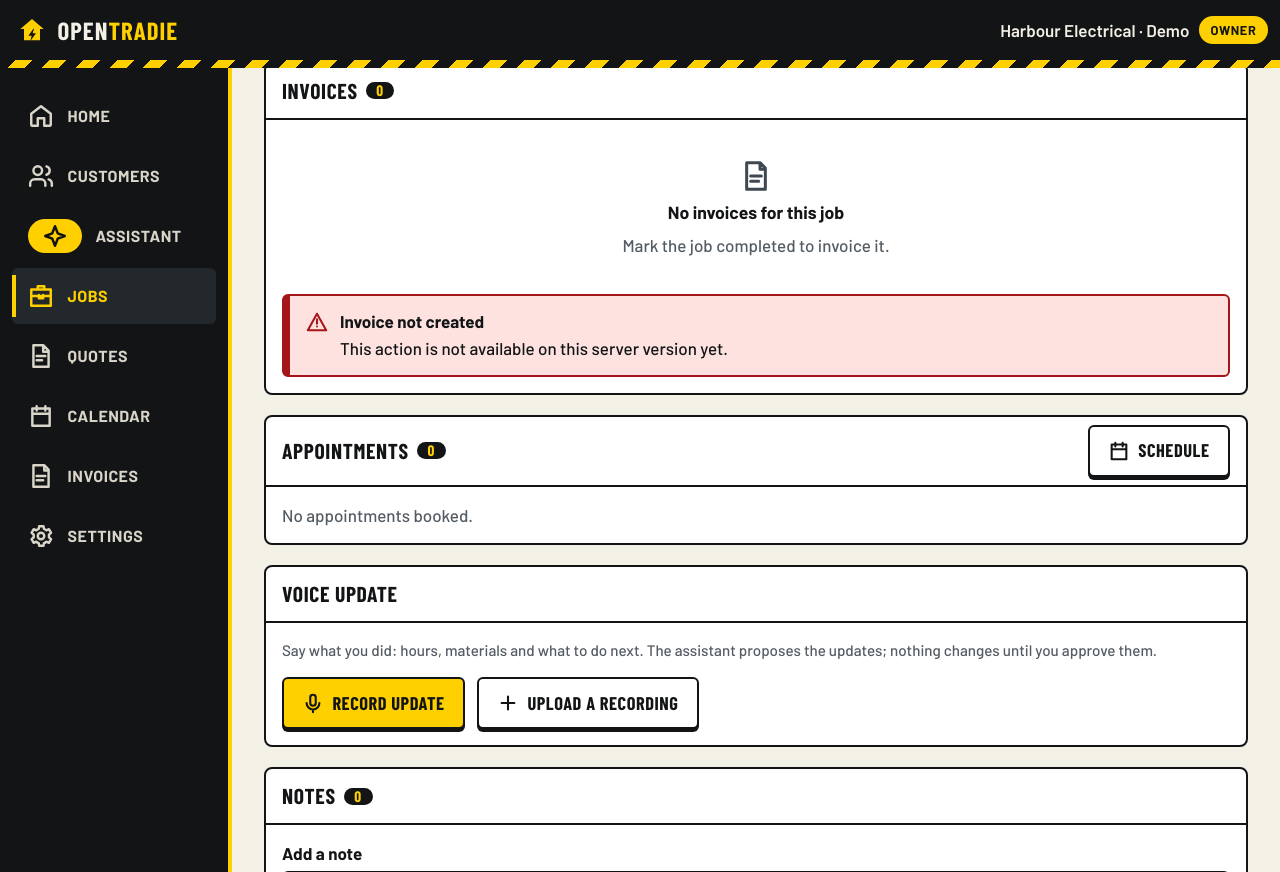
Test: scheduling from the job card › explains a clash and refreshes the suggestions
The width and height of the screenshot is (1280, 872).
(page scrolled)
Click the button "Schedule" at (1159, 450), box [1088,424,1230,476]
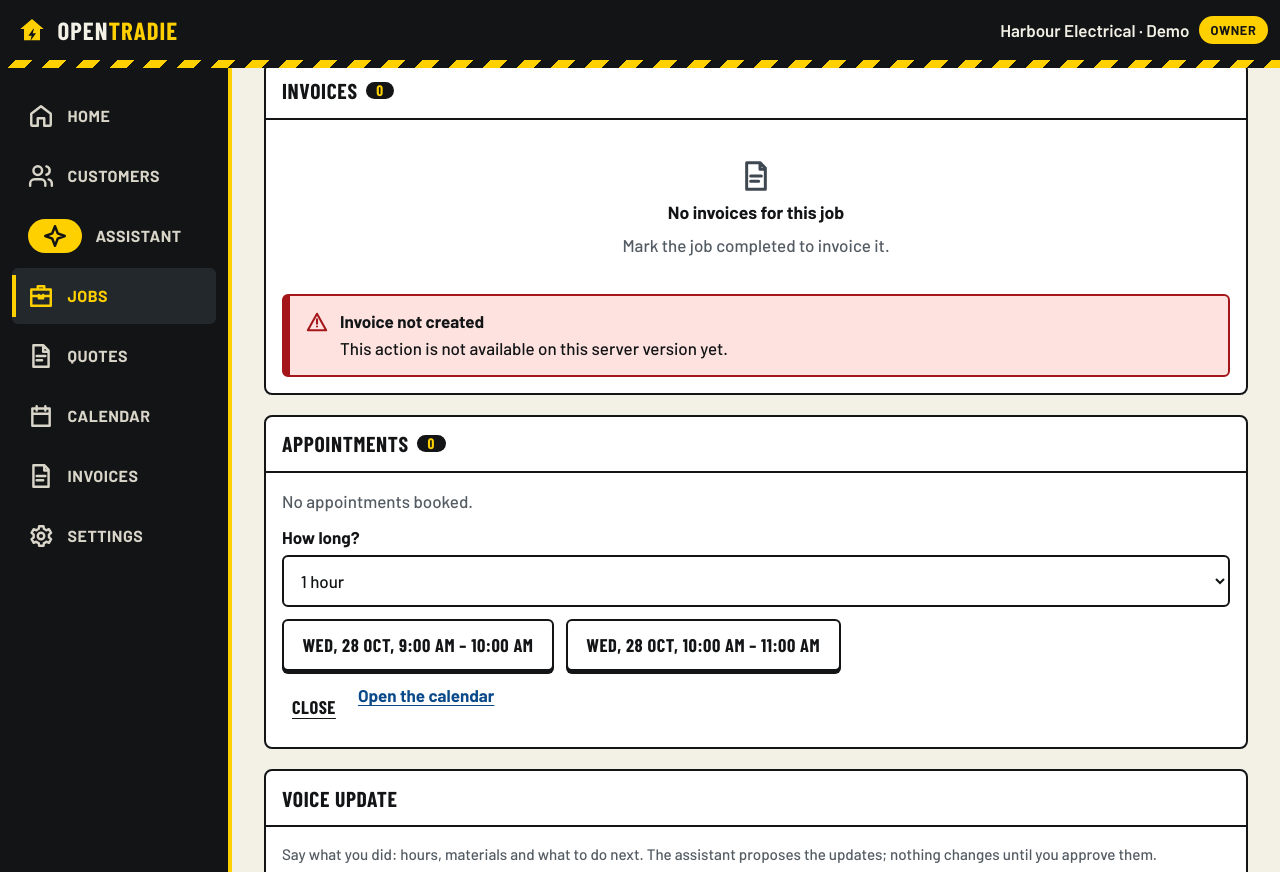
Click the button "Wed, 28 Oct, 9:00 am – 10:00 am" at (418, 645), box [282,619,554,671]
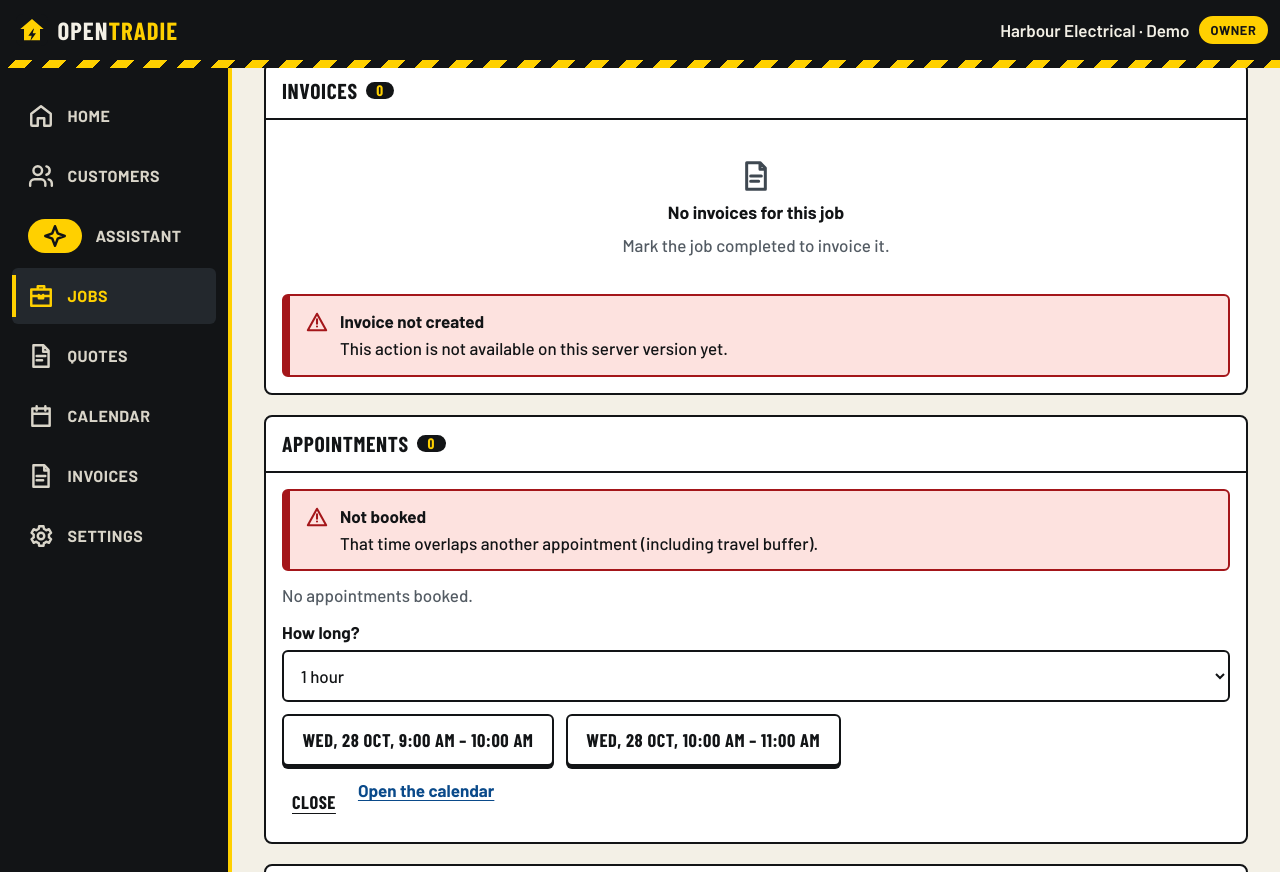
expect the text "overlaps another appointment" is shown: met, box [340,533,818,553]
